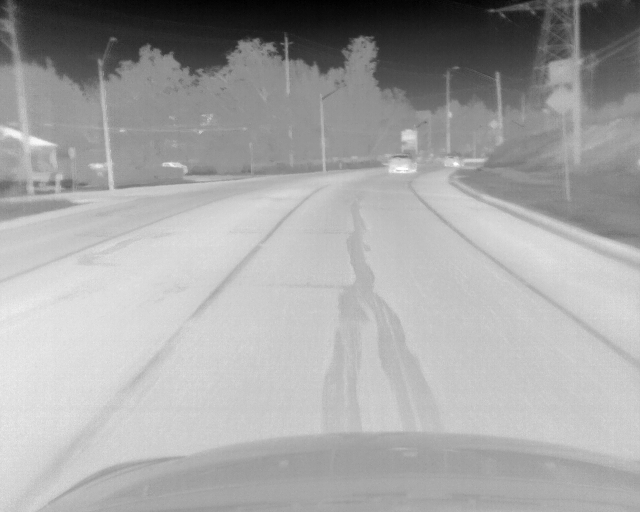car: (384, 154, 416, 173), (160, 161, 189, 177), (442, 153, 462, 169)
